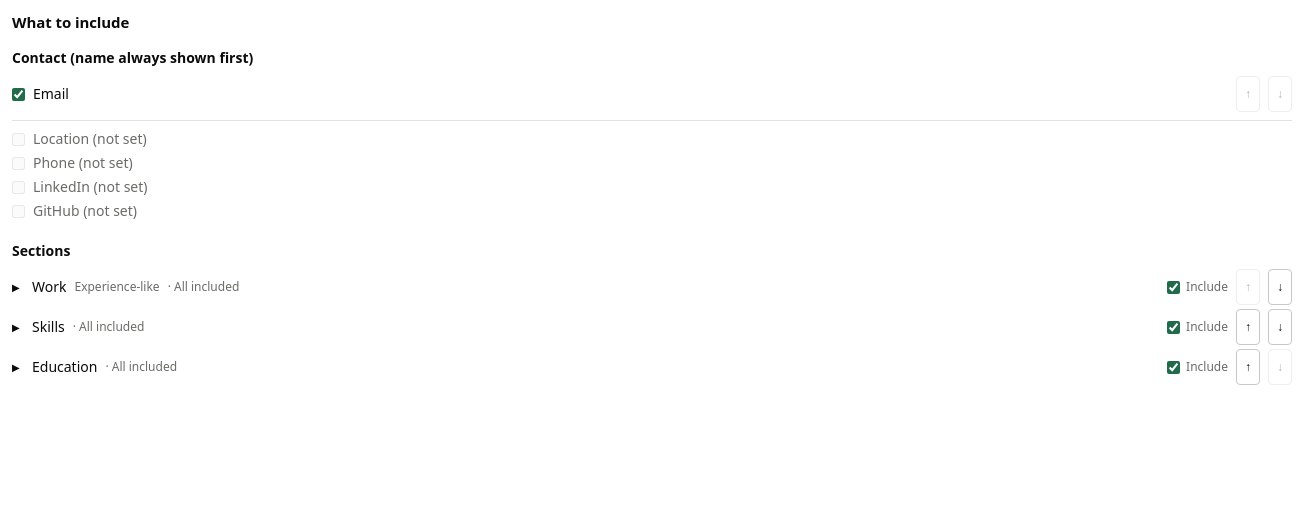
Test: IncludePanel › education row holds the GPA and coursework switches
The width and height of the screenshot is (1304, 509).
Click the button "▶ Education · All included" at (65, 367), box [12, 349, 1159, 385]
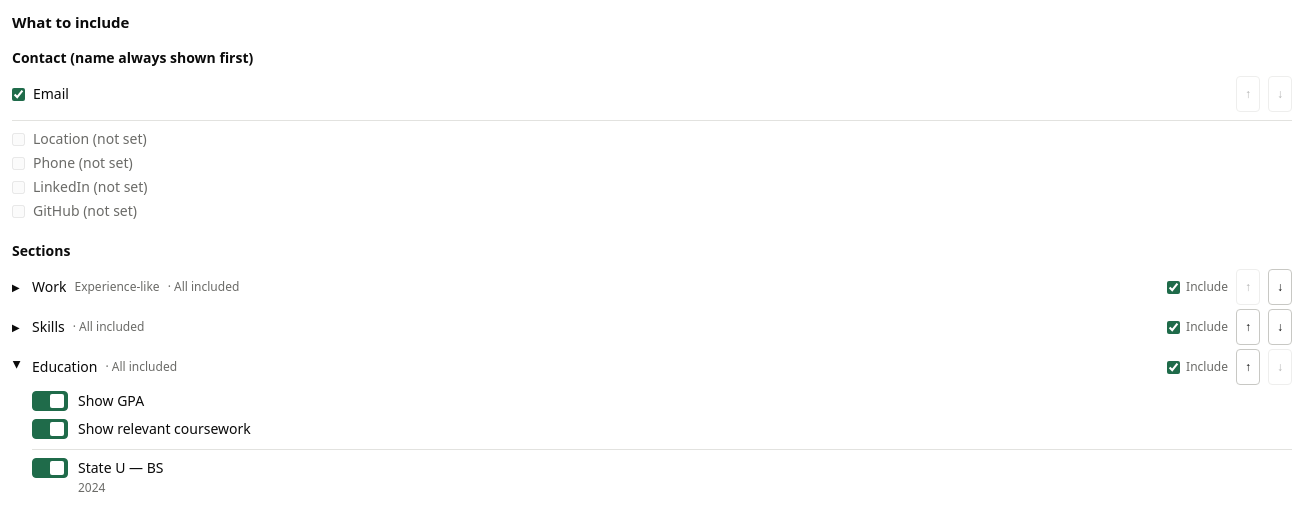
Expected: the text "Show GPA" is shown, [78, 391, 144, 410]
Expected: the text "State U — BS" is shown, [78, 458, 164, 477]
